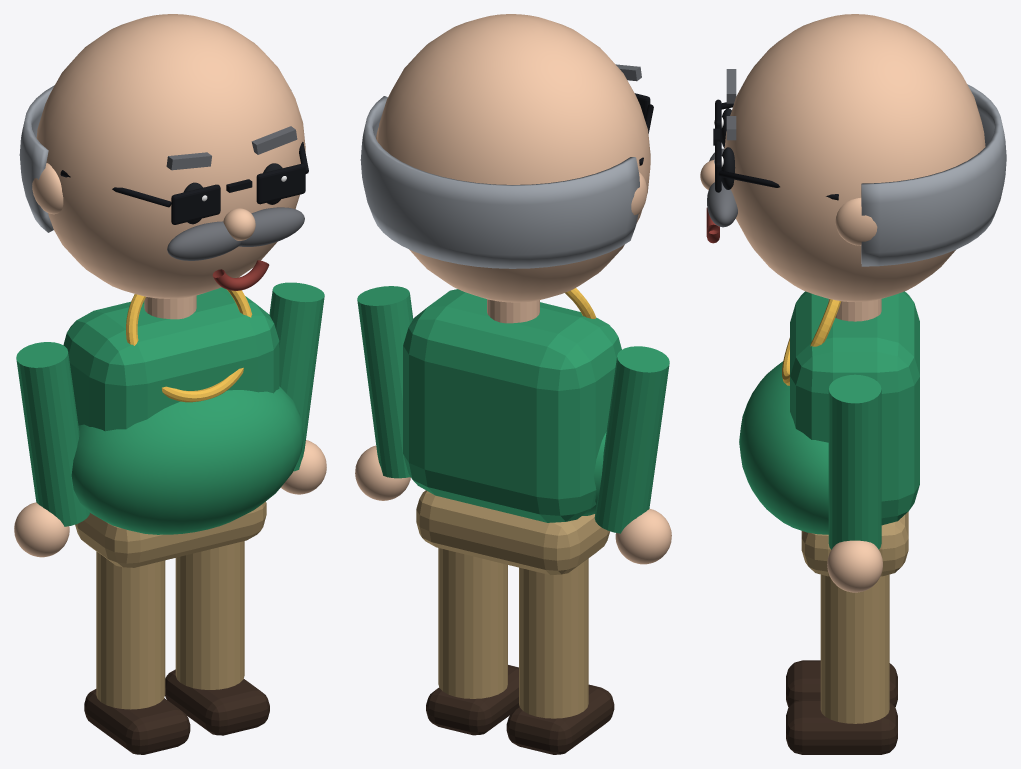
The model's file is senor.glb.
3 views of the same model, side by side, from view 1: azimuth 30°, elevation 25°; view 2: azimuth 150°, elevation 25°; view 3: azimuth 270°, elevation 25° (orthographic).
Visible parts, largest first — view 1: Sphere.001, Sphere, Cube.003, brazo_i, Cylinder, Cylinder.001, brazo_d, Cube.002, Cube, Cube.001, Sphere.009, Sphere.010 (+10 smaller); view 2: Sphere.001, Cube.003, Sphere.009, brazo_i, Cylinder, Cylinder.001, Cube.002, brazo_d, Cube, Cube.001, Cylinder.002; view 3: Sphere.001, Cube.003, Sphere.009, brazo_d, Sphere, Cylinder.001, Cube.001, Cube.002, Cube, Sphere.005, Sphere.011, Torus.005 (+1 smaller).
Boxes of the visible parts, x1,y1,x2,y2 form: Sphere.001: (36,14,305,298); Sphere: (71,386,303,534); Cube.003: (63,287,279,431); brazo_i: (14,342,89,557); Cylinder: (96,551,165,709); Cylinder.001: (175,541,244,689); brazo_d: (269,282,326,494); Cube.002: (75,501,266,567); Cube: (84,689,190,754); Cube.001: (165,669,269,735); Sphere.009: (19,85,291,232); Sphere.010: (167,221,241,260); Sphere.001: (377,14,650,302); Cube.003: (403,289,621,522); Sphere.009: (360,96,639,268); brazo_i: (594,346,671,564); Cylinder: (519,558,588,718); Cylinder.001: (438,548,507,698); Cube.002: (416,490,609,575); brazo_d: (355,286,413,500); Cube: (506,684,614,754); Cube.001: (426,665,519,735); Cylinder.002: (487,299,539,323); Sphere.001: (724,14,985,302); Cube.003: (790,291,919,525); Sphere.009: (861,84,1006,266); brazo_d: (827,374,882,592); Sphere: (739,361,828,534); Cylinder.001: (820,574,889,723); Cube.001: (786,699,897,754); Cube.002: (801,511,908,576); Cube: (786,660,897,707); Sphere.005: (835,198,877,245); Sphere.011: (707,182,737,227); Torus.005: (782,299,840,385).
Size of the model in its own units: 1.08 by 2.34 by 0.93.
